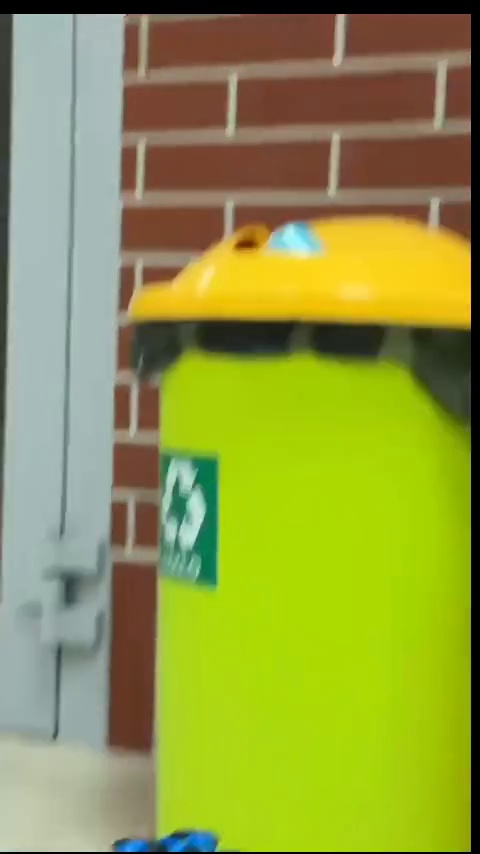drone: (109, 834, 241, 854)
